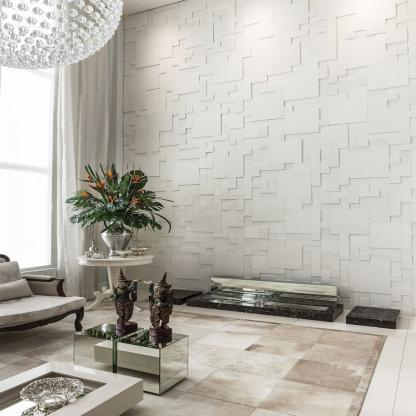Futech tiles: (155, 17, 402, 263)
